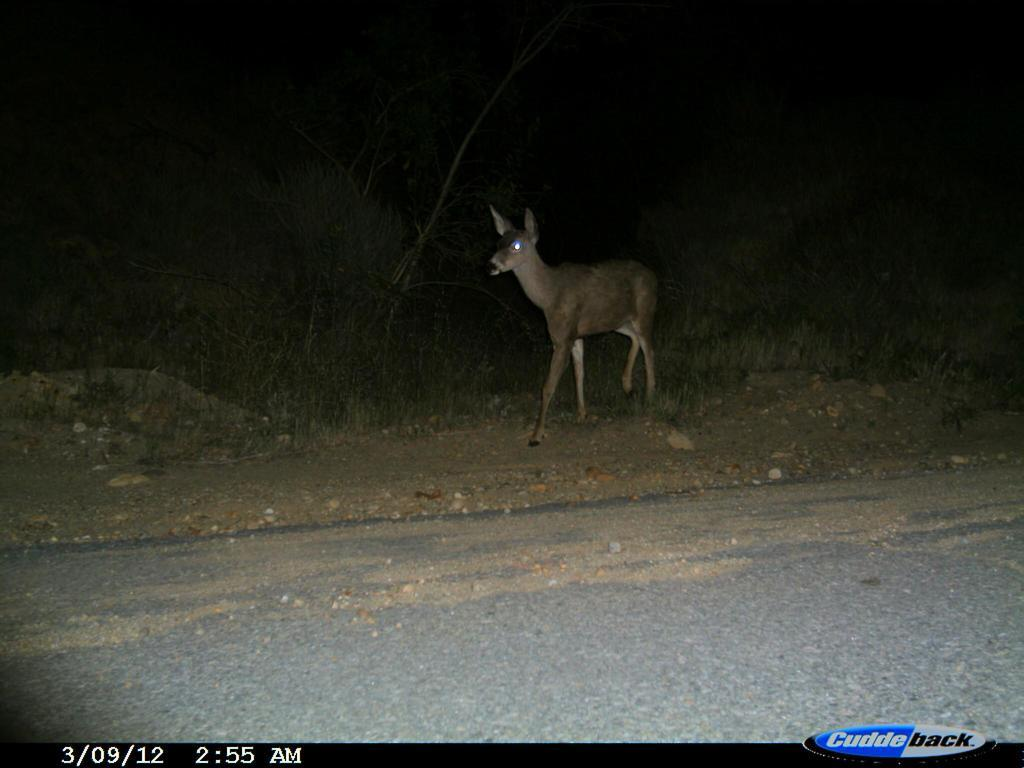deer: (465, 182, 696, 470)
